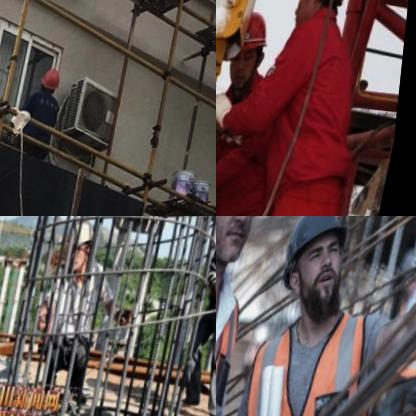helmet: (271, 216, 366, 319), (232, 4, 278, 92), (216, 216, 284, 271), (280, 0, 364, 42), (62, 218, 104, 278), (42, 67, 68, 98)
